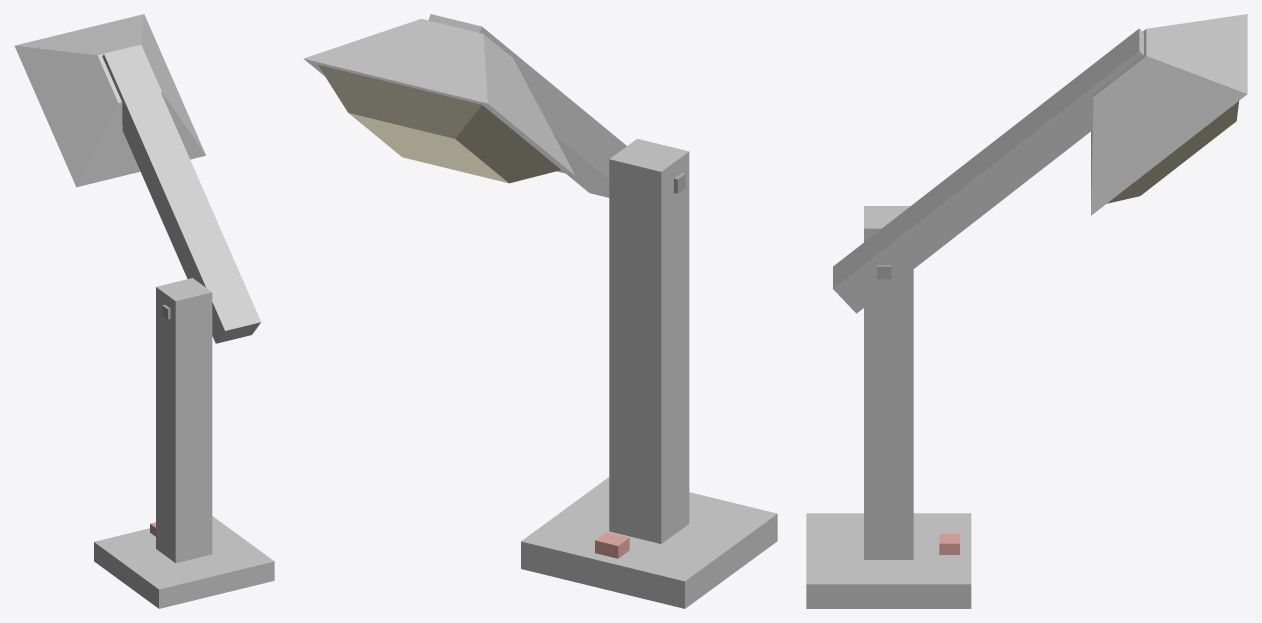
File: table lamp.fbx
3 views of the same model, side by side, from view 1: azimuth 30°, elevation 25°; view 2: azimuth 150°, elevation 25°; view 3: azimuth 270°, elevation 25° (orthographic). The views are drawn at different scales.
Parts seen in each view (by area): view 1: Cube; view 2: Cube; view 3: Cube.
Boxes of the visible parts, left/top/right/bottom form: Cube: left=14, top=14, right=274, bottom=608; Cube: left=303, top=14, right=777, bottom=608; Cube: left=806, top=14, right=1247, bottom=608.
Size of the model in its own units: 10.49 by 27.63 by 19.85.
